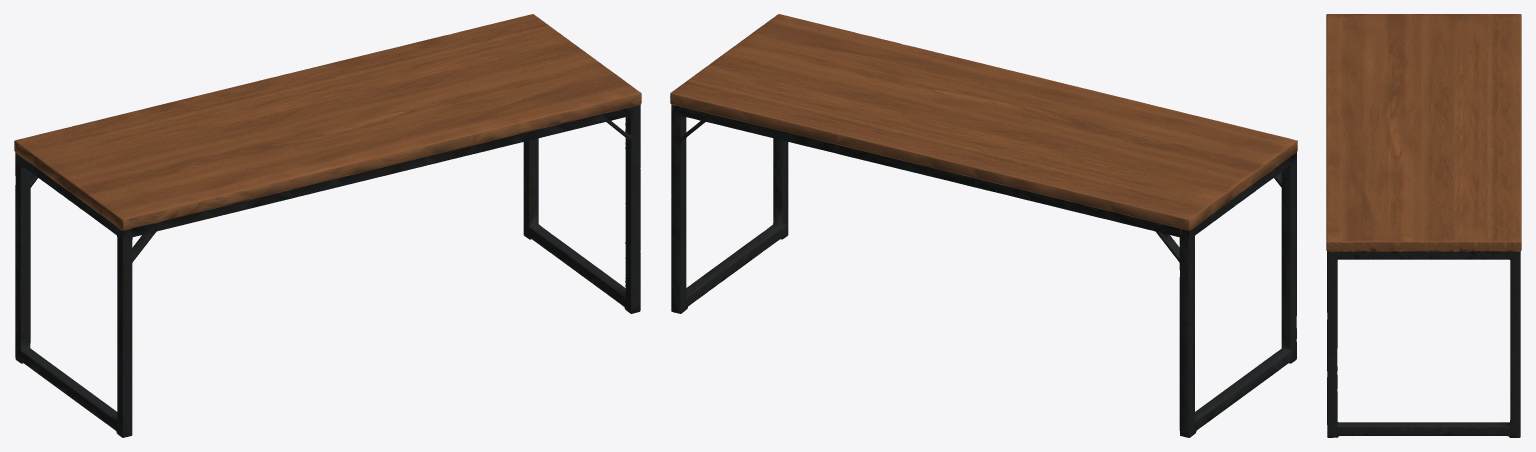
The model's file is desk.glb.
3 views of the same model, side by side, from view 1: azimuth 30°, elevation 25°; view 2: azimuth 150°, elevation 25°; view 3: azimuth 270°, elevation 25° (orthographic). The views are drawn at different scales.
Size of the model in its own units: 1.9 by 0.7679 by 0.6898.
1 material, 1 textured.
